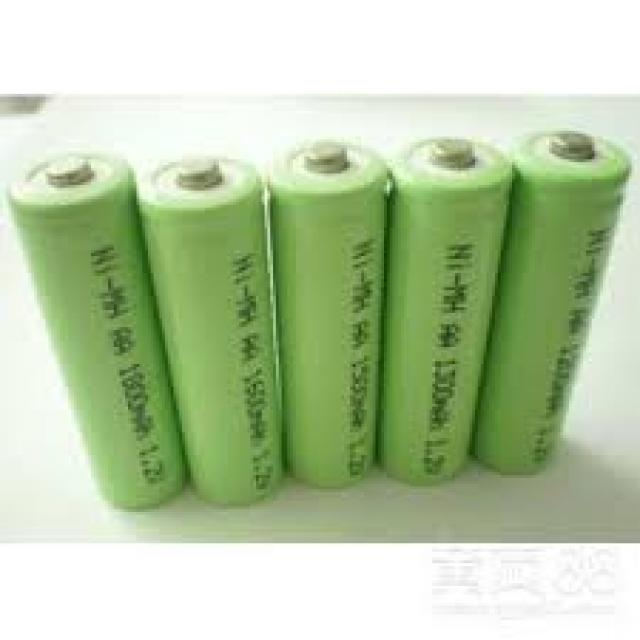non-organic waste: (12, 153, 190, 513), (131, 158, 288, 520), (471, 128, 628, 474), (381, 132, 516, 491), (261, 138, 378, 488)
